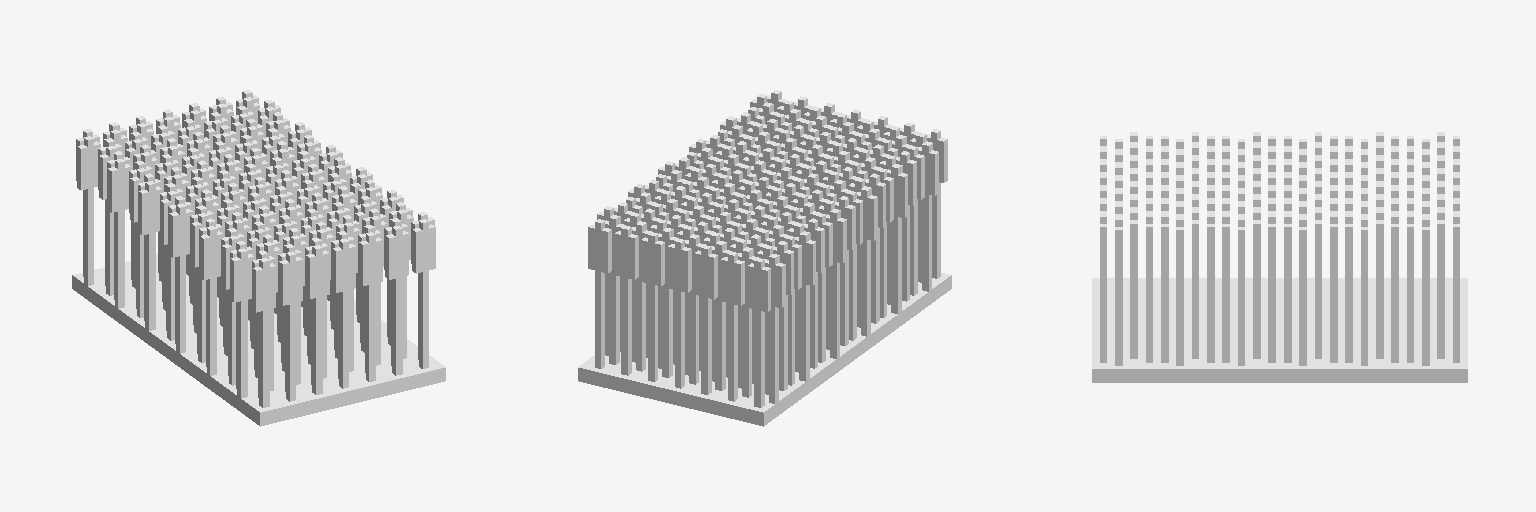
Rendered from Plants-0-Wheet.obj.
The picture shows the model from 3 angles: view 1: azimuth 30°, elevation 25°; view 2: azimuth 150°, elevation 25°; view 3: azimuth 270°, elevation 25°; orthographic projection.
Visible parts, largest first — view 1: Wheet; view 2: Wheet; view 3: Wheet.
Boxes of the visible parts, box(x1,y1,x2,y2) form: Wheet: box(72, 90, 445, 426); Wheet: box(578, 90, 951, 426); Wheet: box(1092, 132, 1467, 382).
Size of the model in its own units: 2.9 by 2.3 by 4.9.